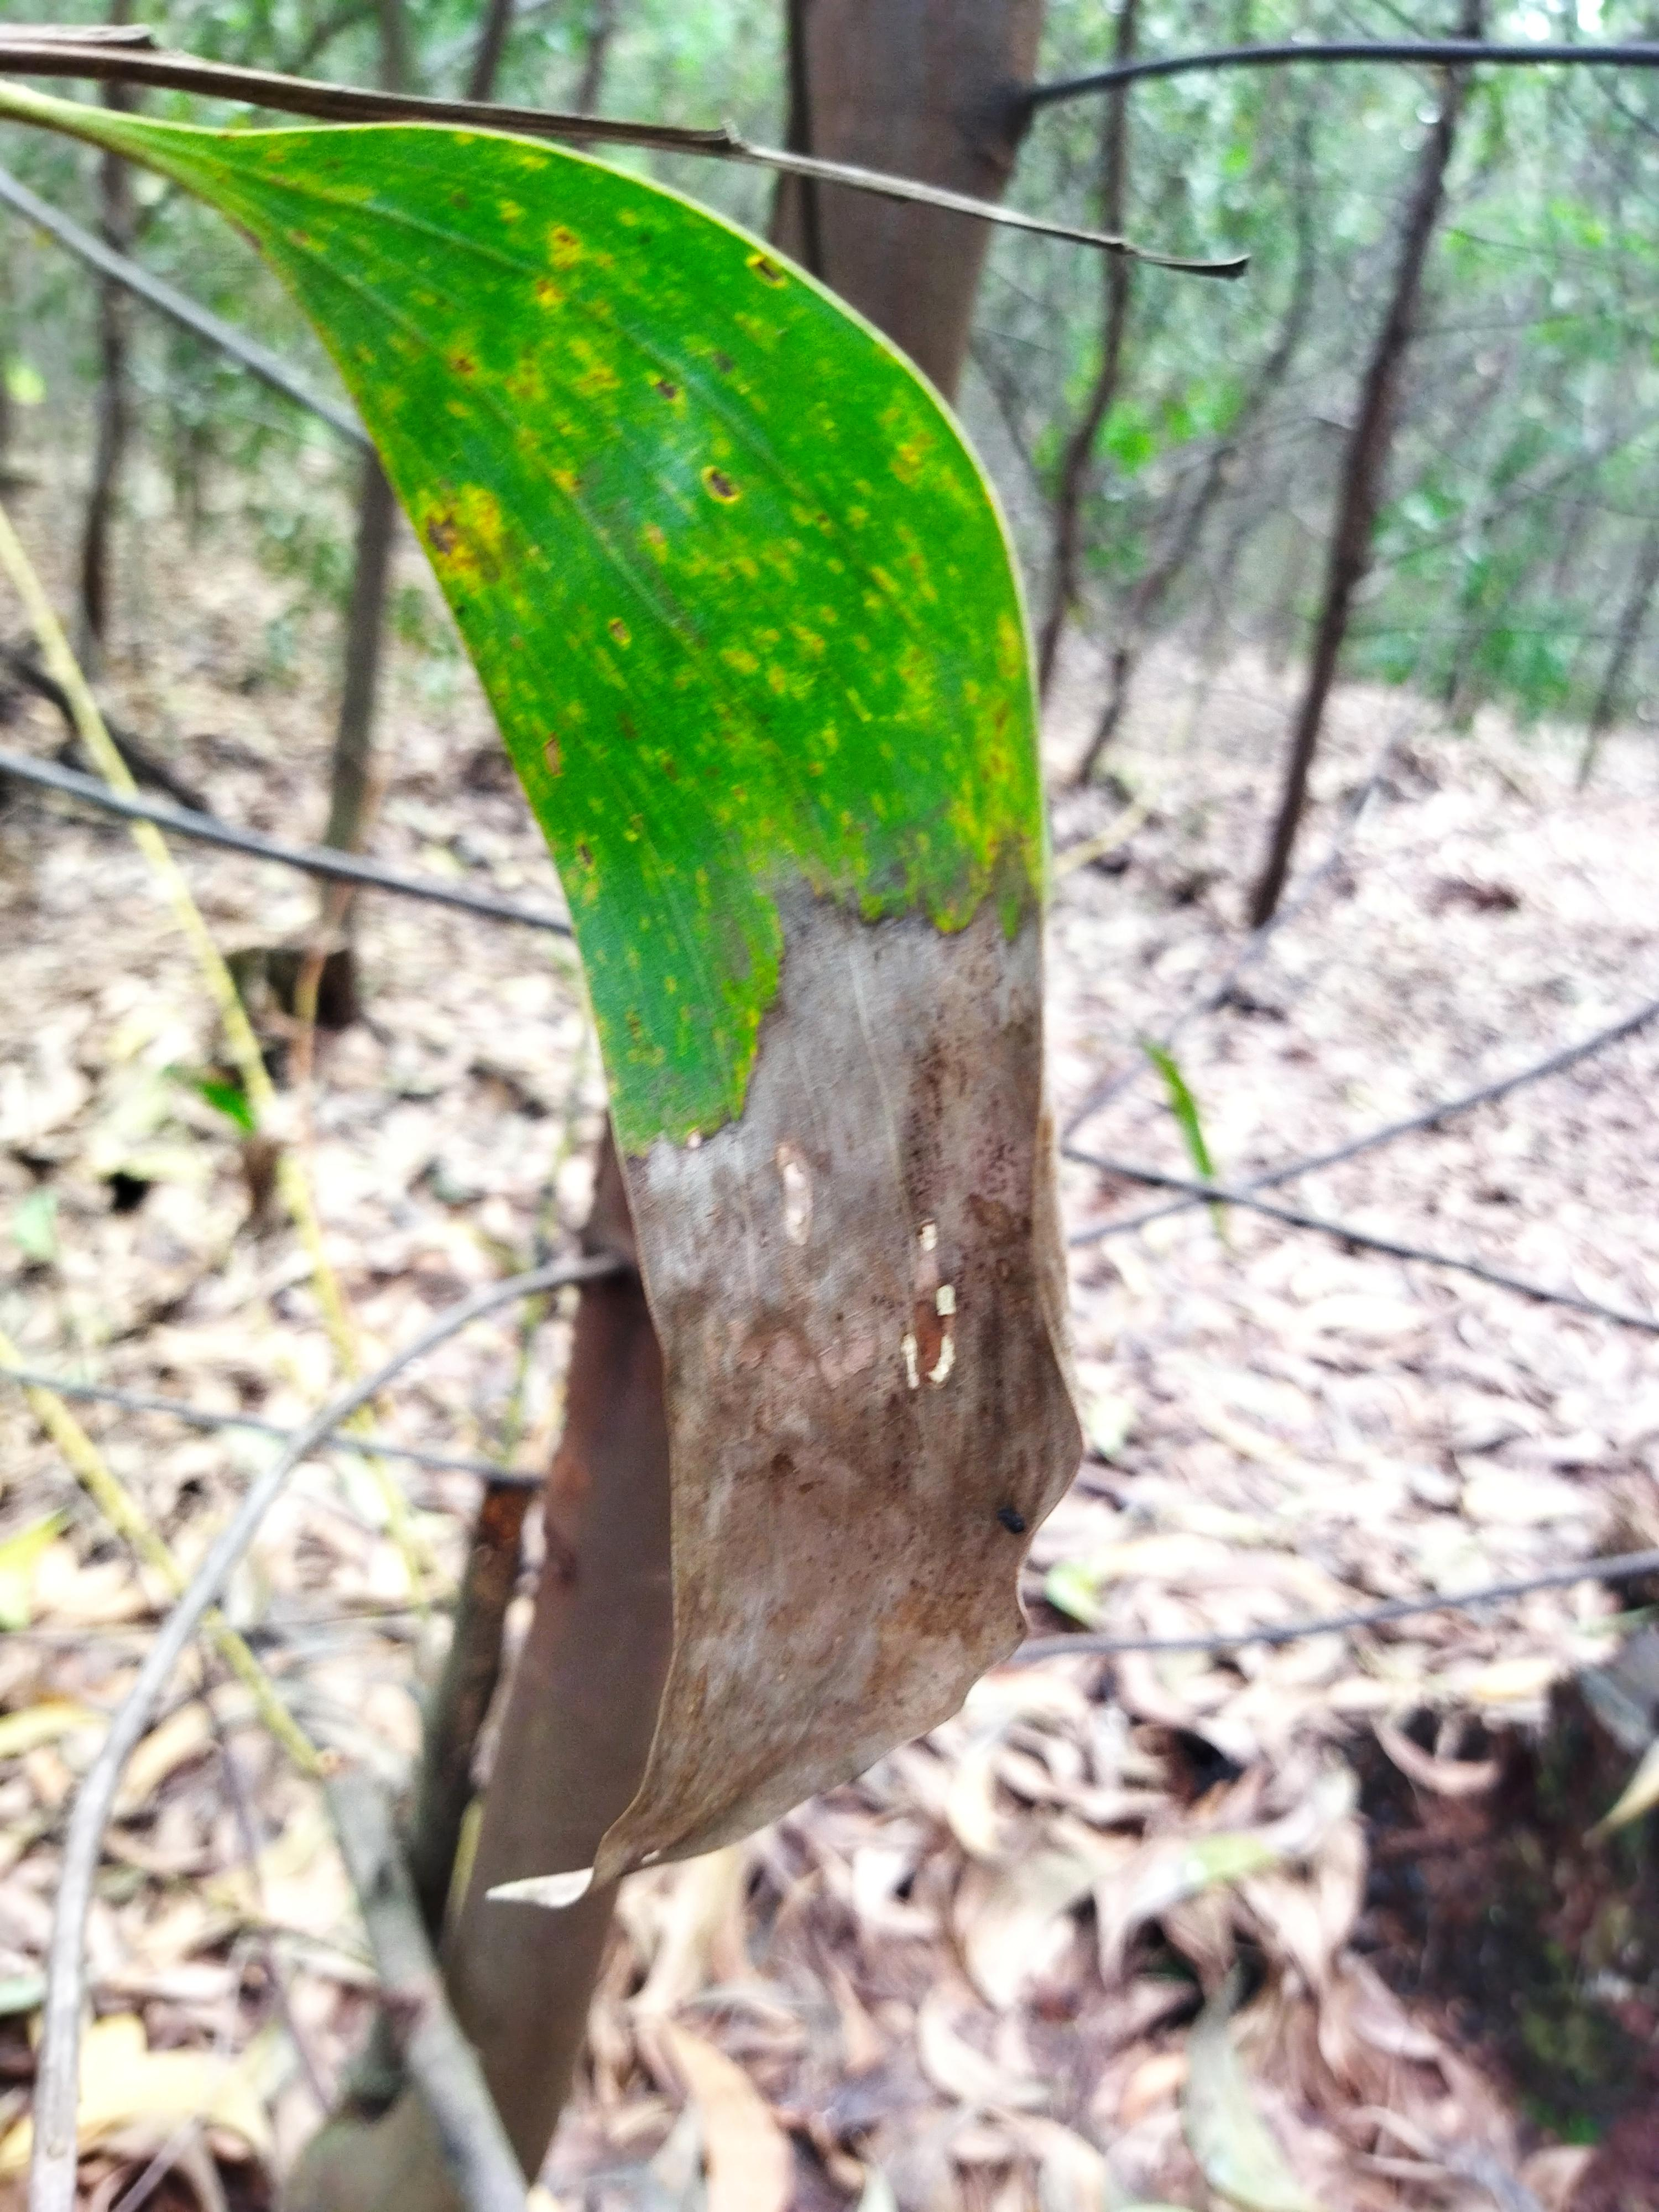Cylindrocladium: (638, 892, 1094, 1925)
Xanthomonas: (223, 122, 1009, 862)
